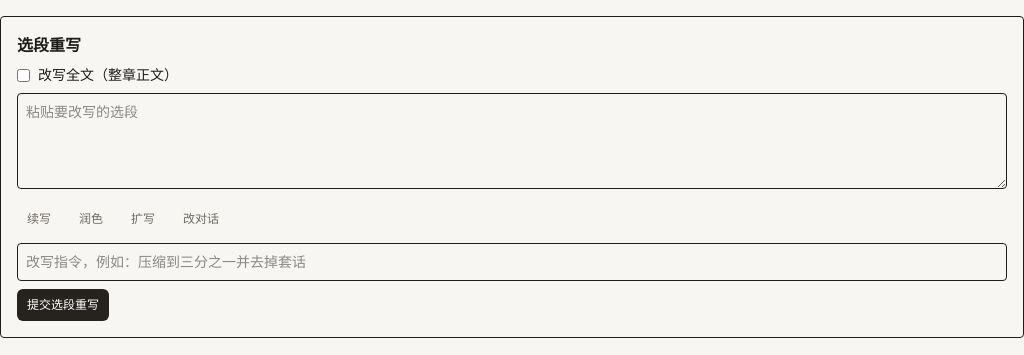
Scenario: SelectionRewrite › 全文模式指令为空 → 提示「指令不能为空」且零请求
This screenshot has width=1024, height=355.
Step 1. Click the checkbox labelled "改写全文" → (24, 75), box x1=17 y1=68 x2=30 y2=82
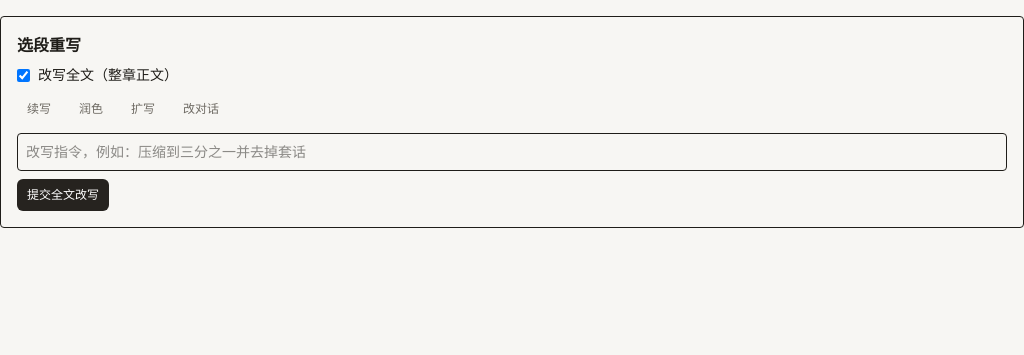
Step 2. Click the button "提交全文改写" → (63, 195), box x1=17 y1=179 x2=109 y2=211
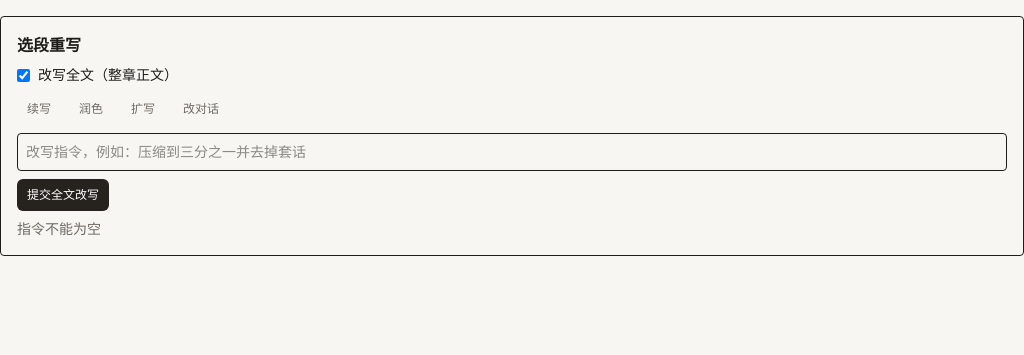
Now the text "指令不能为空" is shown, box x1=17 y1=219 x2=101 y2=238
